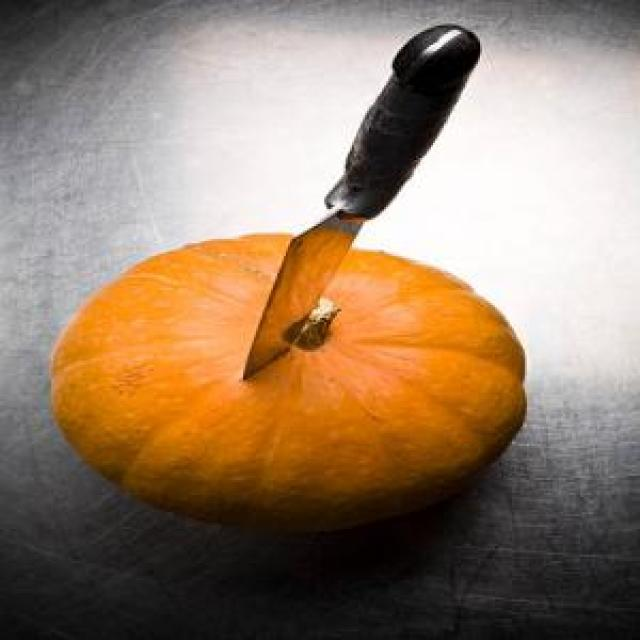knife: (244, 26, 486, 380)
